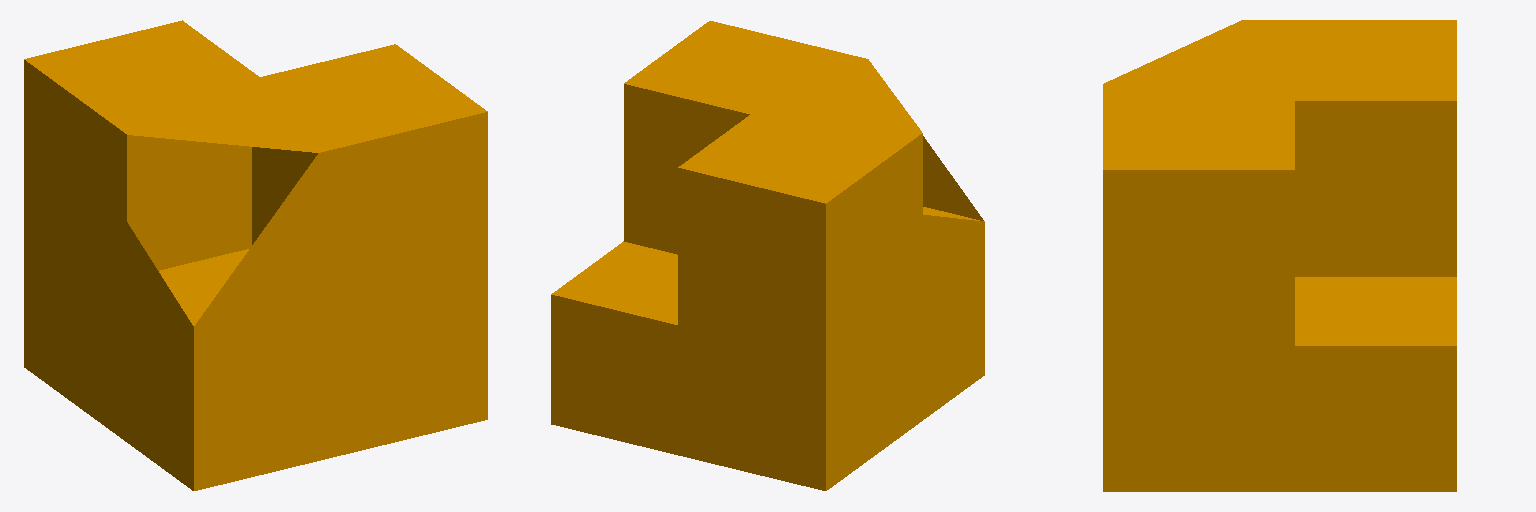
robot.urdf — object:
<?xml version="1.0"?>
<robot name="object">
  <link name="object">
    <visual>
      <origin xyz="0 0 0"/>
      <geometry>
        <mesh filename="meshes/set2/set_obj3_block.obj" scale=".03 .03 .03"/>
      </geometry>
    </visual>
    <collision>
  <origin xyz="0 0 0"/>
  <geometry>
    <mesh filename="meshes/set2/set_obj3_block_0decompose.obj" scale=".03 .03 .03"/>
<!--          <mesh filename="meshes/custom/obj0_ball.obj" scale=".05 .05 .05"/>-->
  </geometry>
</collision><collision>
  <origin xyz="0 0 0"/>
  <geometry>
    <mesh filename="meshes/set2/set_obj3_block_1decompose.obj" scale=".03 .03 .03"/>
<!--          <mesh filename="meshes/custom/obj0_ball.obj" scale=".05 .05 .05"/>-->
  </geometry>
</collision><collision>
  <origin xyz="0 0 0"/>
  <geometry>
    <mesh filename="meshes/set2/set_obj3_block_2decompose.obj" scale=".03 .03 .03"/>
<!--          <mesh filename="meshes/custom/obj0_ball.obj" scale=".05 .05 .05"/>-->
  </geometry>
</collision>

<!--    <collision>-->
<!--      <origin xyz="0 0 0"/>-->
<!--      <geometry>-->
<!--        <mesh filename="meshes/set2/set_obj3_block.obj" scale=".03 .03 .03"/>-->
<!--&lt;!&ndash;          <mesh filename="meshes/custom/obj0_ball.obj" scale=".05 .05 .05"/>&ndash;&gt;-->
<!--      </geometry>-->
<!--    </collision>-->
    <inertial>
      <density value="1000.0"/>
    </inertial>
  </link>
</robot>

--- What the picture shows (computed from the rendered views, not written in the file) ---
The picture shows the robot from 3 angles, left to right: view 1: azimuth 30°, elevation 25°; view 2: azimuth 150°, elevation 25°; view 3: azimuth 270°, elevation 25°; orthographic projection.
Model object with 1 links and 0 joints (none), rooted at object, posed every joint at zero.
Links seen in each view (by area): view 1: object; view 2: object; view 3: object.
Boxes of the visible links, x1,y1,x2,y2 form: object: [24, 20, 487, 490]; object: [551, 21, 984, 490]; object: [1103, 20, 1456, 491].
Size in the robot's own frame: 0.06 by 0.06 by 0.06 metres.
Meshes: 1 distinct files referenced, 1 mesh visuals loaded (1 OBJ).